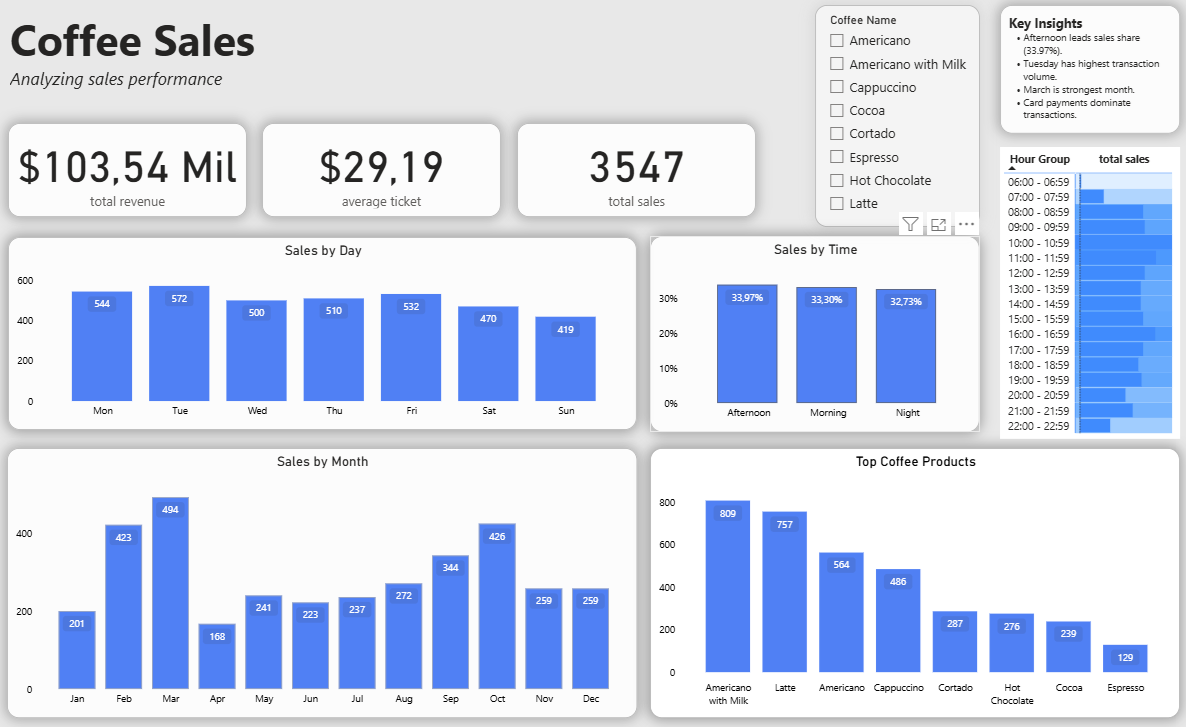

This screenshot's page, from the dashboard's own definition file:
{"tool":"powerbi","page":{"name":"Dashboard","canvas":[1480,1000],"ordinal":0},"visuals":[{"type":"card","fields":{"Values":["Coffe_sales.total sales"]},"box":[19.9,139.3,297.3,116.9],"z":0},{"type":"card","fields":{"Values":["Coffe_sales.avarege ticket"]},"box":[328.4,139.3,297.3,116.9],"z":1000},{"type":"textbox","box":[10,10,318.9,137.8],"z":2000},{"type":"card","fields":{"Values":["Coffe_sales.total revenue"]},"box":[636.8,139.3,297.3,116.9],"z":3000},{"type":"slicer","fields":{"Values":["Coffe_sales.coffee_name"]},"box":[1016.2,10,205.2,276.1],"z":4000},{"type":"clusteredColumnChart","title":"Sales by Time","fields":{"Y":["Coffe_sales.sales % by time"],"Category":["Coffe_sales.Time_of_Day"]},"box":[810.9,297.3,410.4,243.8],"z":5000},{"type":"clusteredColumnChart","title":"Sales by Month","fields":{"Y":["Coffe_sales.total sales"],"Category":["Coffe_sales.Month_name"]},"box":[11.2,574.6,783.6,335.8],"z":6000},{"type":"textbox","box":[1246.3,10,223.9,160.4],"z":7000},{"type":"clusteredColumnChart","title":"Total Sales by Day","fields":{"Y":["Coffe_sales.total sales"],"Category":["Coffe_sales.Weekday"]},"box":[12.4,298.5,782.3,240],"z":8000},{"type":"clusteredColumnChart","title":"Top Coffee Products","fields":{"Y":["Coffe_sales.total sales"],"Category":["Coffe_sales.coffee_name"]},"box":[810.9,574.6,659.2,335.8],"z":9000},{"type":"pivotTable","fields":{"Values":["Coffe_sales.total sales"],"Rows":["Coffe_sales.Hour Group"]},"box":[1246.3,186.6,223.9,363.2],"z":10000}]}

Visuals, with their boxes on the page's 1480x1000 design canvas (x1, y1, x2, y2). These are canvas units, not pixel positions in the 1186x727 screenshot, which may show the page scaled, cropped or inside an application window:
card - Coffe_sales.total sales: region(20, 139, 317, 256)
card - Coffe_sales.avarege ticket: region(328, 139, 626, 256)
textbox: region(10, 10, 329, 148)
card - Coffe_sales.total revenue: region(637, 139, 934, 256)
slicer - Coffe_sales.coffee_name: region(1016, 10, 1221, 286)
"Sales by Time" clusteredColumnChart: region(811, 297, 1221, 541)
"Sales by Month" clusteredColumnChart: region(11, 575, 795, 910)
textbox: region(1246, 10, 1470, 170)
"Total Sales by Day" clusteredColumnChart: region(12, 298, 795, 538)
"Top Coffee Products" clusteredColumnChart: region(811, 575, 1470, 910)
pivotTable - Coffe_sales.total sales x Coffe_sales.Hour Group: region(1246, 187, 1470, 550)
